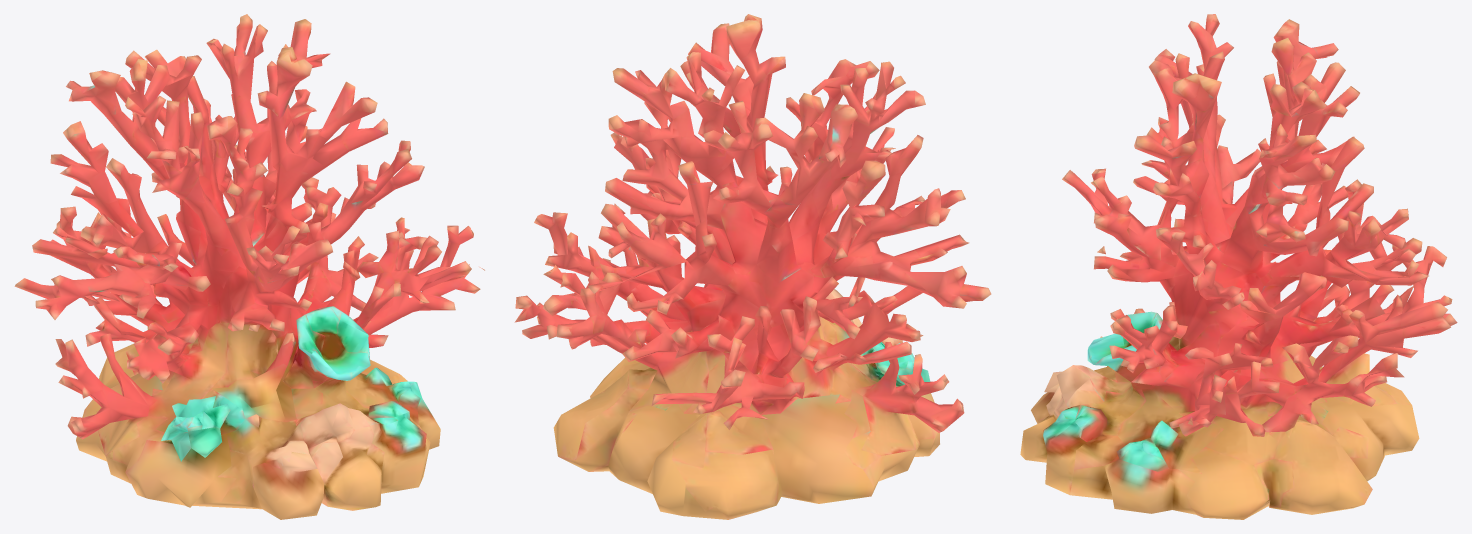
The model's file is coral.glb.
The picture shows the model from 3 angles, left to right: view 1: azimuth 30°, elevation 25°; view 2: azimuth 150°, elevation 25°; view 3: azimuth 270°, elevation 25°; orthographic projection. The views are drawn at different scales.
Parts seen in each view (by area): view 1: 0; view 2: 0; view 3: 0.
Part boxes in pixels (bbox=[...]): 0: bbox=[14, 14, 484, 519]; 0: bbox=[514, 14, 991, 519]; 0: bbox=[1020, 14, 1457, 519].
Bounding box in the file's own units: 1.9 × 1.62 × 1.66.
1 material, 1 textured.
